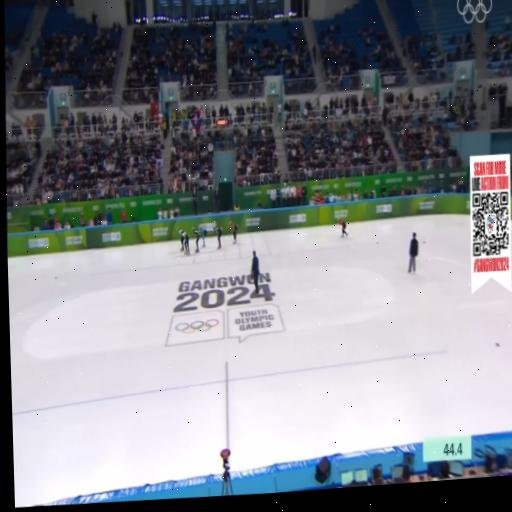Skater: (211, 223, 225, 251), (180, 228, 192, 257), (177, 226, 189, 252), (229, 221, 241, 246), (337, 217, 349, 241), (192, 226, 202, 254), (198, 224, 208, 248)
